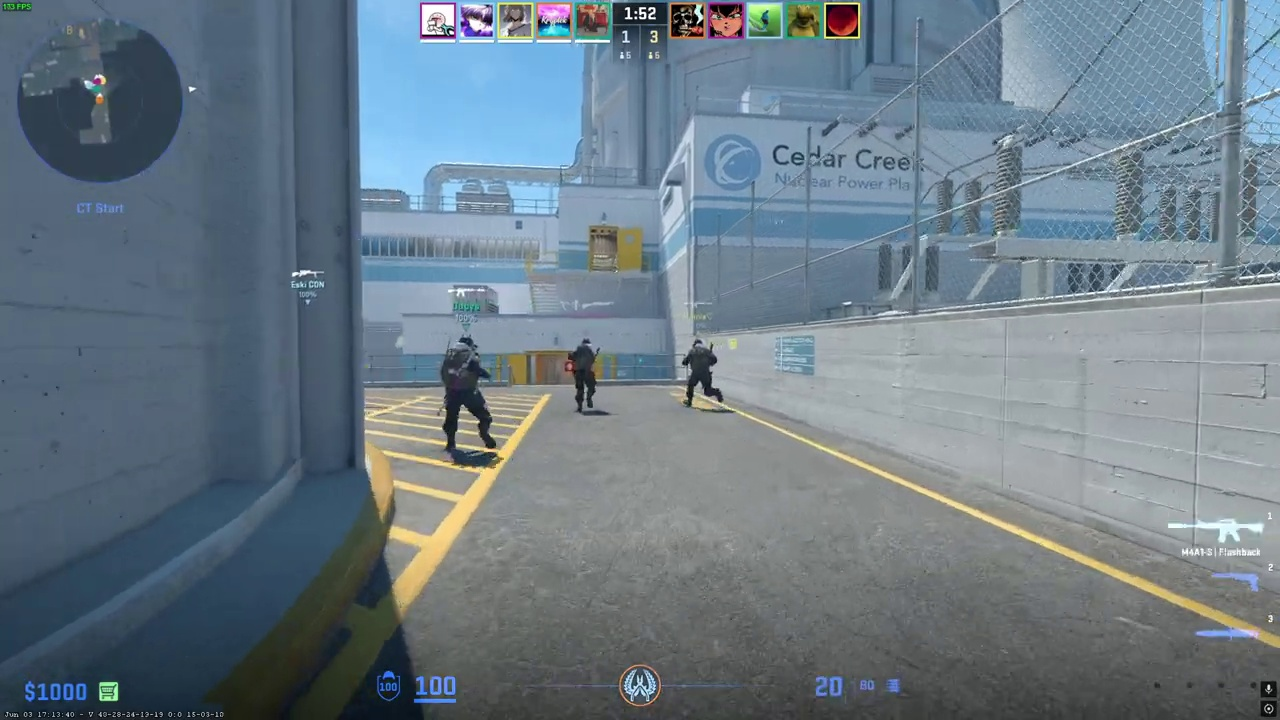CT: (438, 334, 497, 455), (681, 338, 724, 407), (569, 337, 601, 413)
